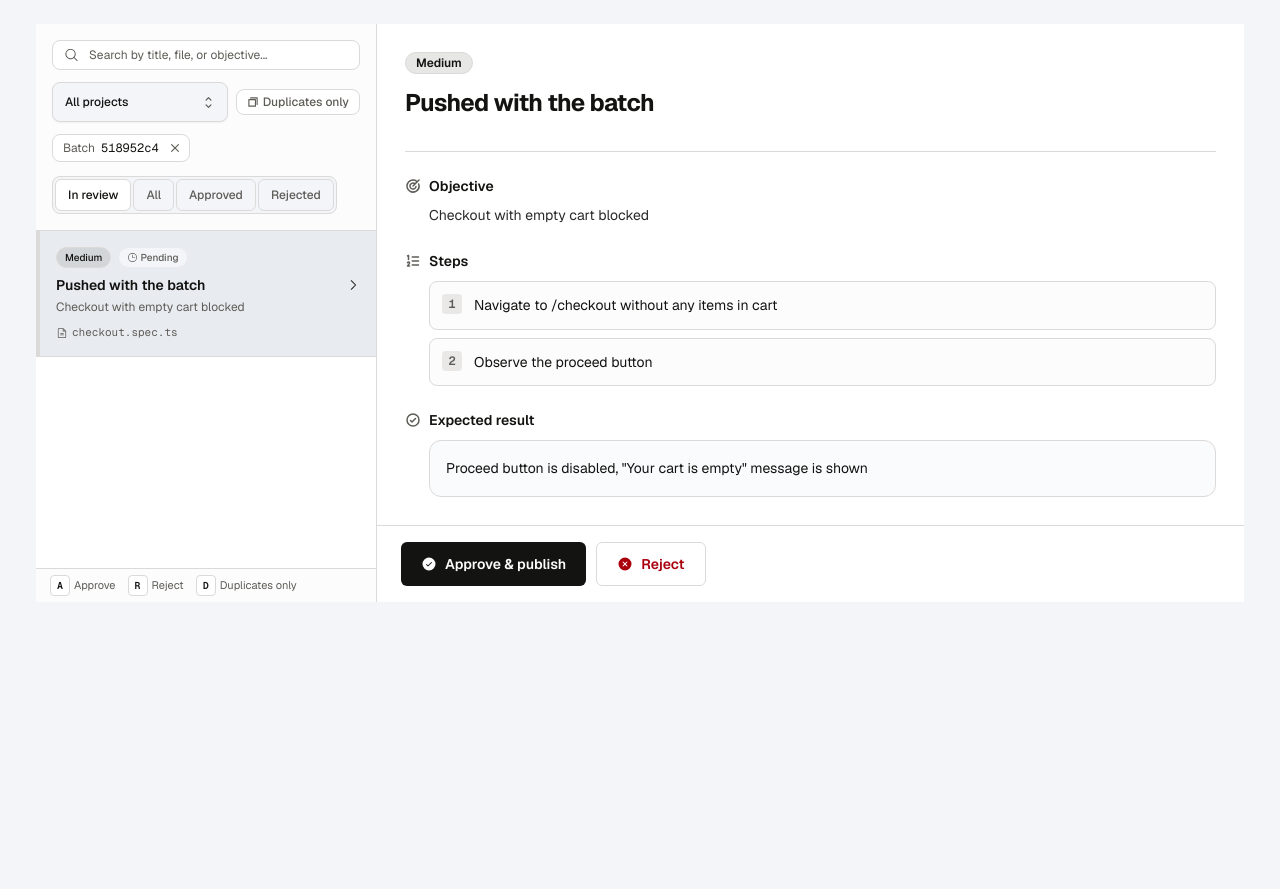
Test: ReviewInboxPage › ?batch= filter › goes back to the whole queue when the chip is dismissed
Expected: the list named "Proposals queue" is shown, [36,231,376,357]
Click the button named "Clear batch filter" at (175, 148), box [165,138,185,158]
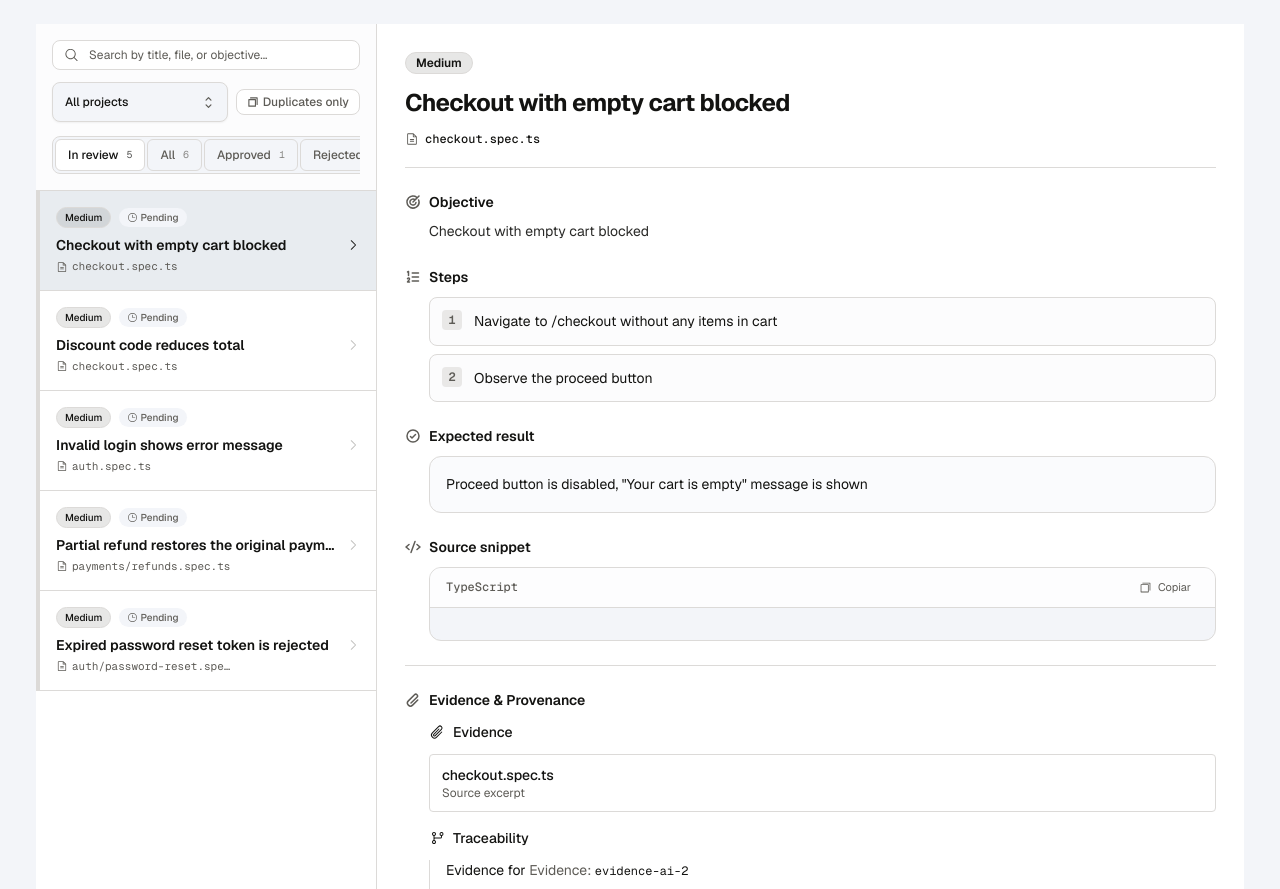
Expected: the text "518952c4" is gone
Expected: the button "Pushed with the batch" is gone
